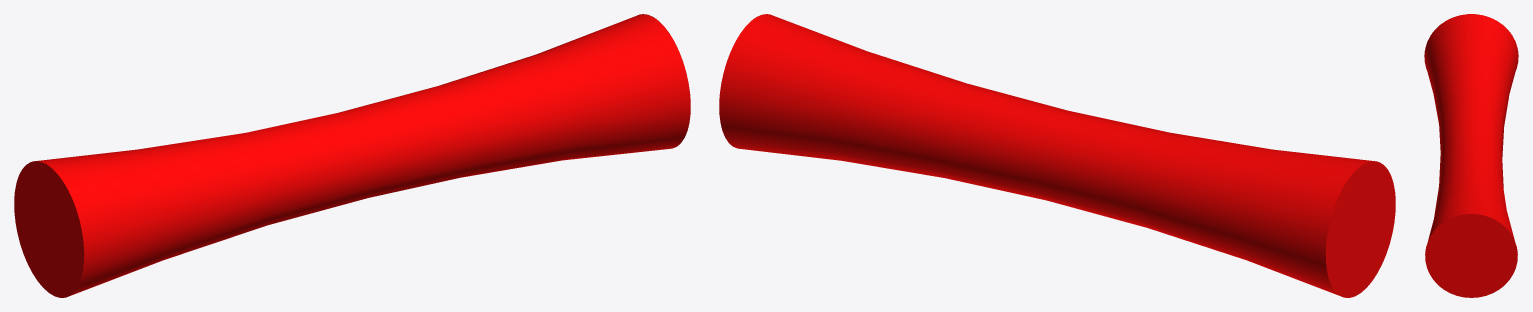
File: RPN_4.gltf
3 views of the same model, side by side, from view 1: azimuth 30°, elevation 25°; view 2: azimuth 150°, elevation 25°; view 3: azimuth 270°, elevation 25° (orthographic). The views are drawn at different scales.
Visible parts, largest first — view 1: Rolik5, Rolik007; view 2: Rolik5, Rolik007; view 3: Rolik5, Rolik006.
Boxes of the visible parts, x1=… form: Rolik5: x1=14, y1=14, x2=690, y2=295; Rolik007: x1=14, y1=161, x2=84, y2=297; Rolik5: x1=719, y1=14, x2=1395, y2=295; Rolik007: x1=1325, y1=161, x2=1395, y2=297; Rolik5: x1=1424, y1=14, x2=1518, y2=240; Rolik006: x1=1425, y1=214, x2=1517, y2=297.
Size of the model in its own units: 0.15 by 0.03 by 0.03.
